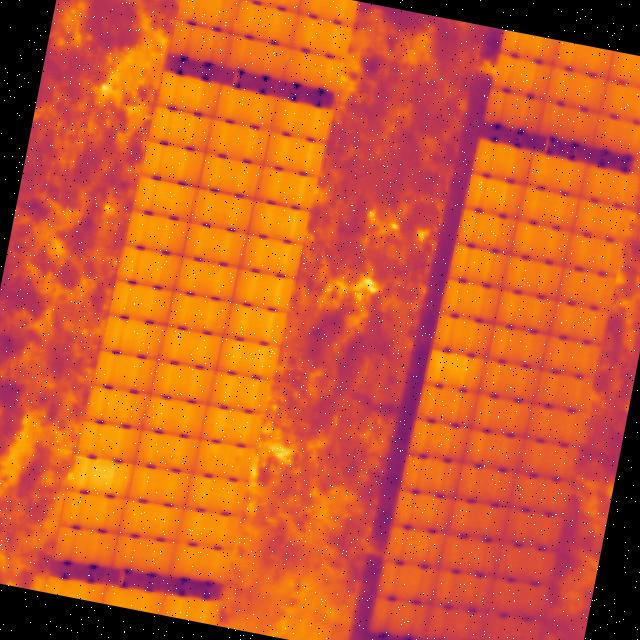Hotspot: (76, 456, 128, 486)
